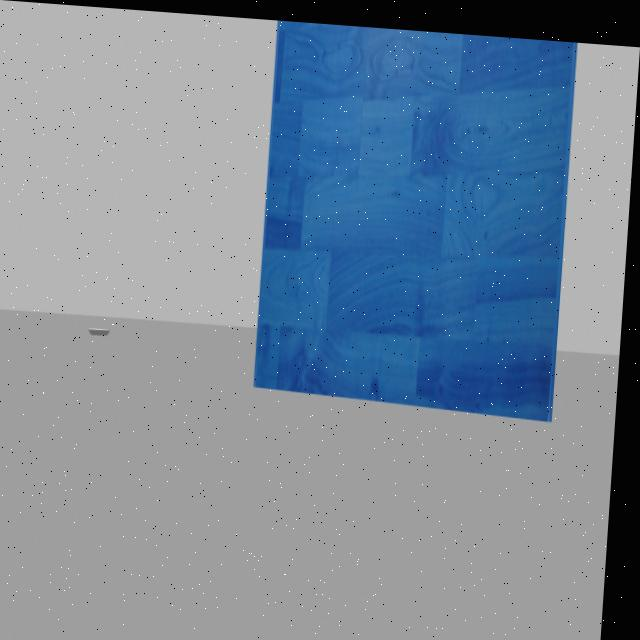bowl: (88, 313, 122, 344)
shelf: (242, 15, 590, 438)
